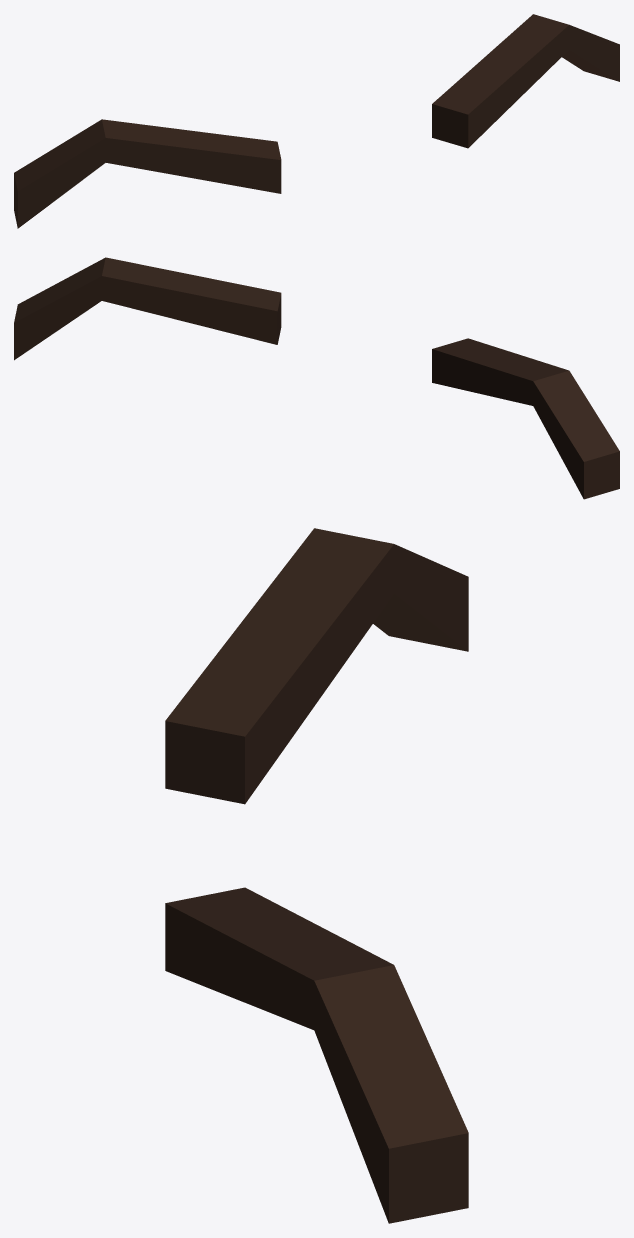
Rendered from ShockEyebrowsF.glb.
3 renders of one model, top to bottom at view 1: azimuth 30°, elevation 25°; view 2: azimuth 150°, elevation 25°; view 3: azimuth 270°, elevation 25°, orthographic. The views are drawn at different scales.
Visible parts, largest first — view 1: ShockEyebrowsF.001; view 2: ShockEyebrowsF.001; view 3: ShockEyebrowsF.001.
Boxes of the visible parts, <box> form: ShockEyebrowsF.001: <box>14,14,619,228</box>; ShockEyebrowsF.001: <box>14,257,619,499</box>; ShockEyebrowsF.001: <box>165,528,468,1223</box>.
Size of the model in its own units: 1.58 by 0.2195 by 0.3442.
